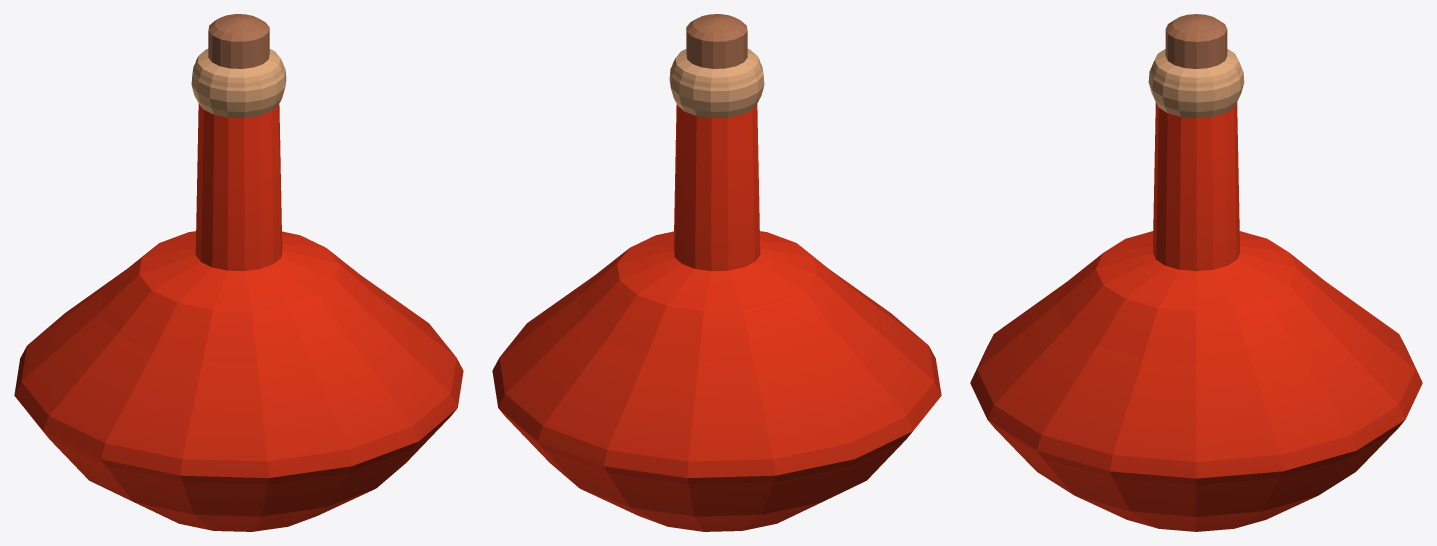
File: medium_potion.fbx
3 renders of one model, left to right at view 1: azimuth 30°, elevation 25°; view 2: azimuth 150°, elevation 25°; view 3: azimuth 270°, elevation 25°, orthographic.
Parts seen in each view (by area): view 1: medium_potion; view 2: medium_potion; view 3: medium_potion.
Part boxes in pixels (x1=…): medium_potion: x1=14, y1=14, x2=463, y2=531; medium_potion: x1=492, y1=14, x2=941, y2=531; medium_potion: x1=970, y1=14, x2=1422, y2=531.
Size of the model in its own units: 17.3 by 19.84 by 17.3.
